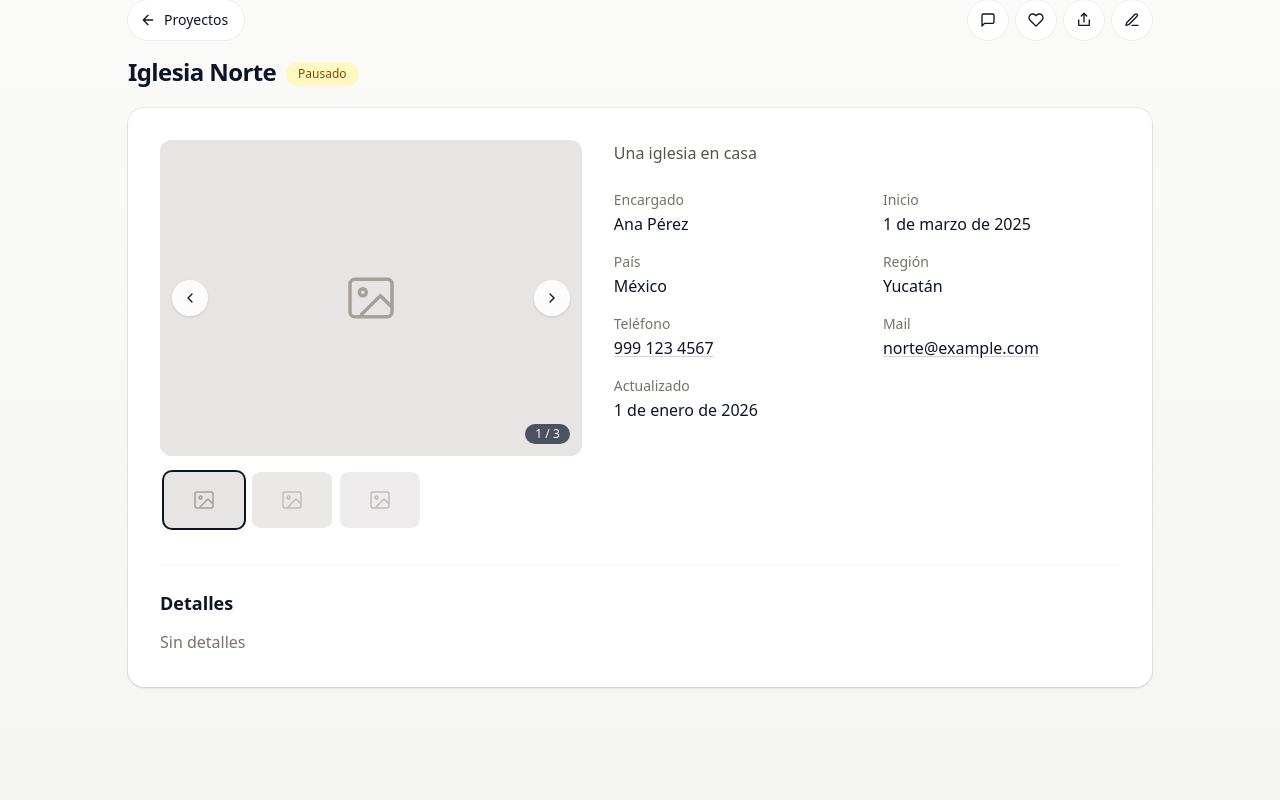
Test: ProjectDetailPage › send message › works for admins too
expect the heading "Iglesia Norte" is shown: met, box [128, 56, 276, 88]
What coordinates should you click on to do the following:
click the button named "Enviar mensaje"
I would click on:
 (988, 20)
Its box is [968, 0, 1008, 40].
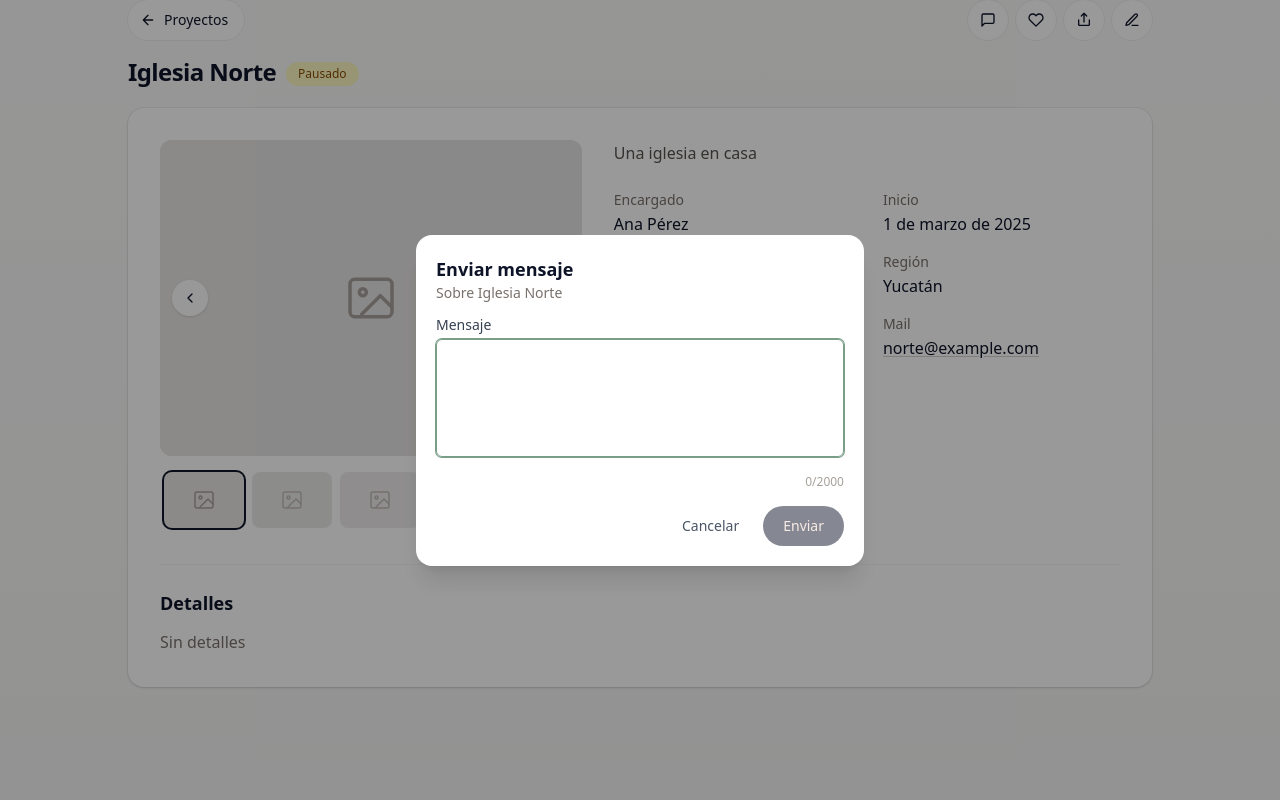
expect the dialog "Enviar mensaje" is shown: met, box [416, 234, 864, 566]
